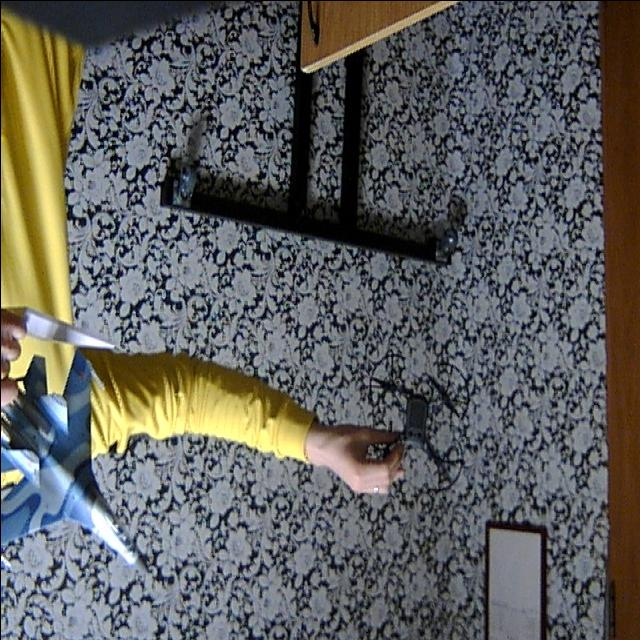drone: (366, 350, 470, 515)
